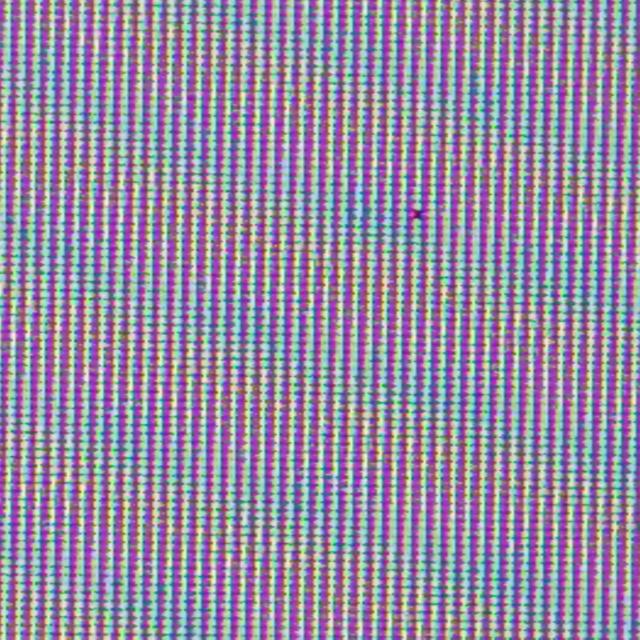Dead pixel: (406, 208, 430, 222)
